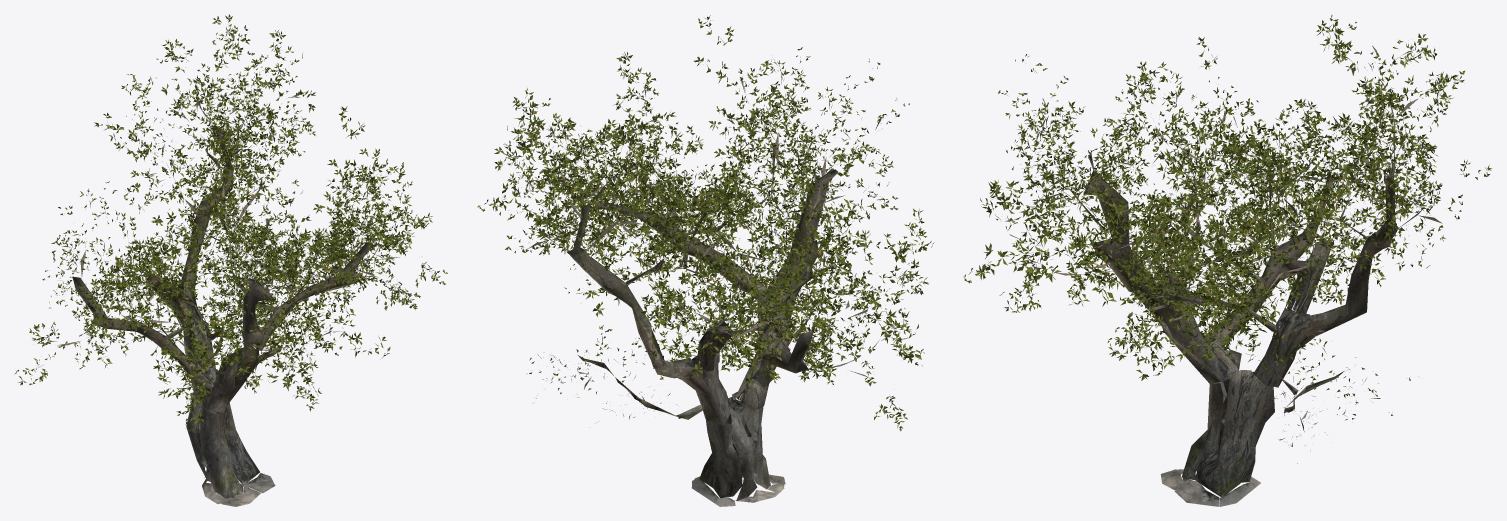
The model's file is ph_island_tree_01.glb.
3 views of the same model, side by side, from view 1: azimuth 30°, elevation 25°; view 2: azimuth 150°, elevation 25°; view 3: azimuth 270°, elevation 25° (orthographic). The views are drawn at different scales.
Visible parts, largest first — view 1: island_tree_01_LOD0; view 2: island_tree_01_LOD0; view 3: island_tree_01_LOD0.
Boxes of the visible parts, <box> form: island_tree_01_LOD0: <box>14,14,447,506</box>; island_tree_01_LOD0: <box>477,15,934,506</box>; island_tree_01_LOD0: <box>963,14,1491,506</box>.
Bounding box in the file's own units: 4.74 × 5.02 × 4.8.
3 materials, 3 textured.
